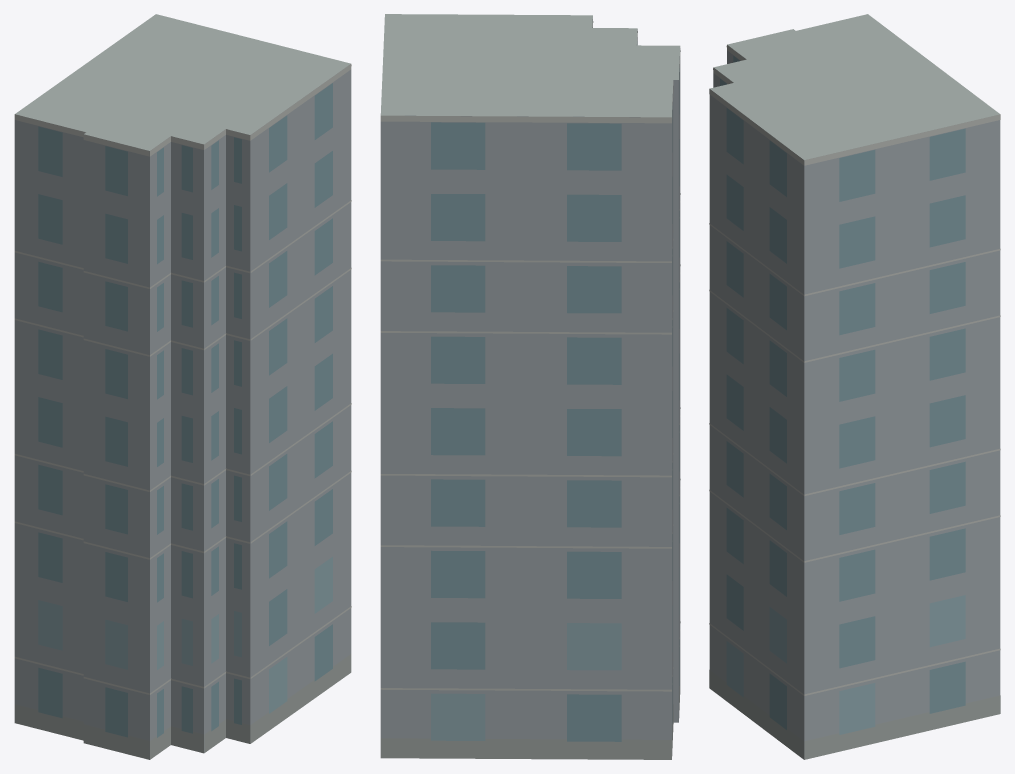
Rendered from survey-upis-32972451.glb.
3 views of the same model, side by side, from view 1: azimuth 30°, elevation 25°; view 2: azimuth 150°, elevation 25°; view 3: azimuth 270°, elevation 25° (orthographic). The views are drawn at different scales.
Parts seen in each view (by area): view 1: survey-upis-32972451.tmp; view 2: survey-upis-32972451.tmp; view 3: survey-upis-32972451.tmp.
Part boxes in pixels (left/top/right/bottom): survey-upis-32972451.tmp: left=14, top=14, right=351, bottom=759; survey-upis-32972451.tmp: left=380, top=14, right=680, bottom=759; survey-upis-32972451.tmp: left=709, top=14, right=1000, bottom=759.
Size of the model in its own units: 13.67 by 26.1 by 11.5.
